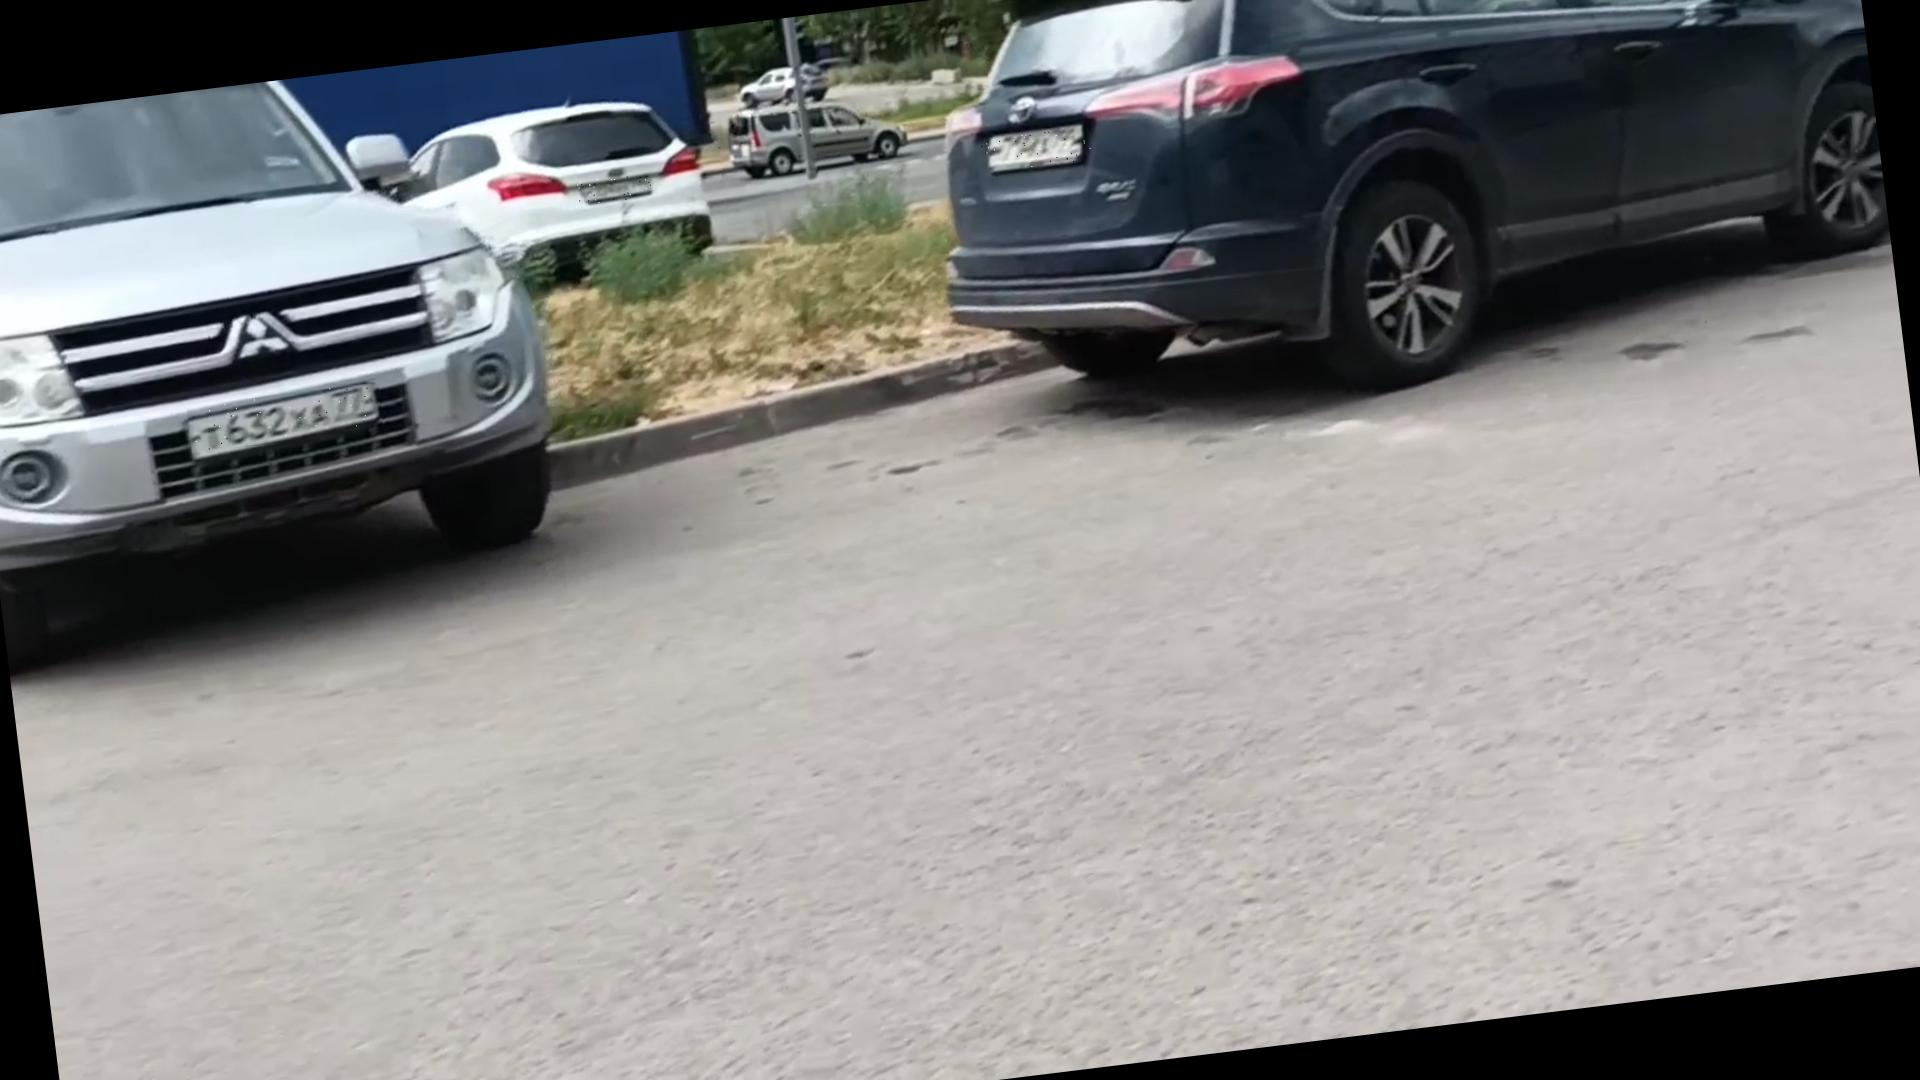plate: (188, 384, 386, 455), (981, 127, 1094, 179), (577, 174, 654, 207)
